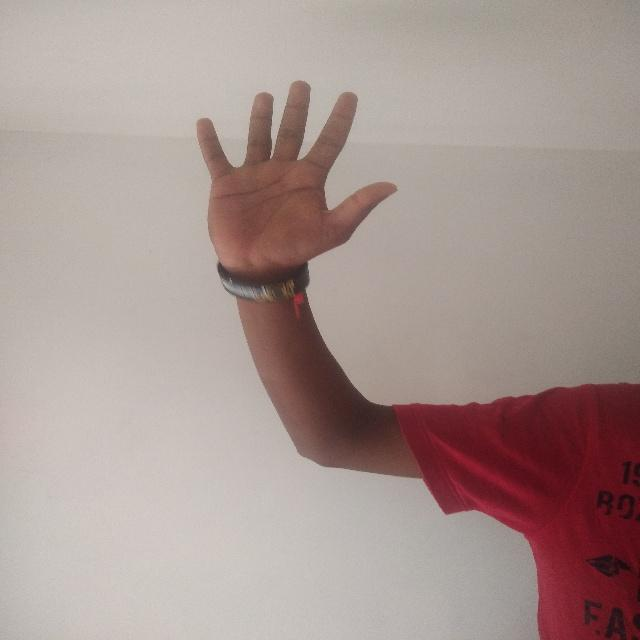Moutza: (186, 78, 402, 316)
